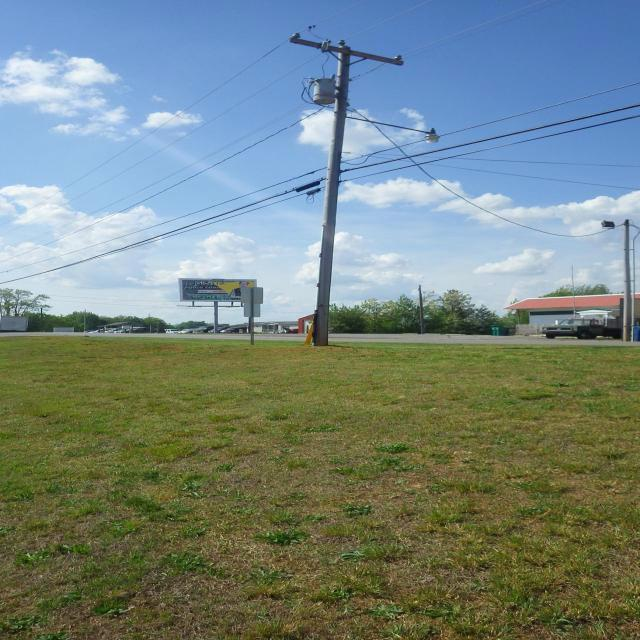crossarm: (281, 29, 404, 68)
pole: (313, 40, 351, 346)
transformer: (284, 216, 323, 247), (309, 77, 335, 105)
wire: (0, 46, 630, 247), (0, 81, 640, 275), (0, 68, 630, 250), (0, 114, 640, 285), (40, 0, 538, 205), (0, 126, 616, 272), (134, 0, 573, 202), (0, 138, 587, 272), (116, 104, 640, 251), (199, 0, 586, 197), (0, 13, 431, 180), (0, 152, 580, 276), (0, 115, 421, 216)
